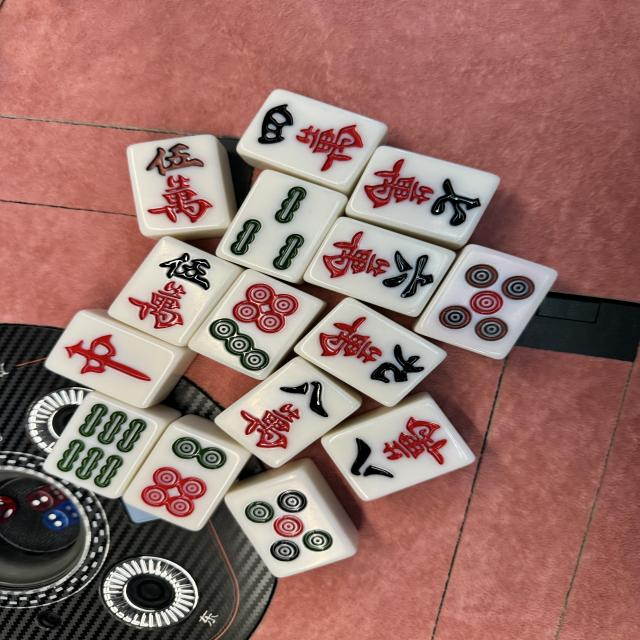hdr: (43, 310, 182, 408)
sb3: (214, 169, 349, 286)
sb6: (43, 394, 162, 498)
sc4: (236, 90, 387, 188)
sc5: (106, 236, 243, 346), (126, 134, 232, 233)
sc7: (346, 145, 501, 246)
sc8: (212, 356, 360, 468), (323, 395, 475, 501)
sc9: (294, 298, 446, 407)
sd5: (412, 244, 558, 361), (224, 469, 356, 577)
sd6: (120, 423, 243, 533)
sd7: (188, 269, 325, 381)
